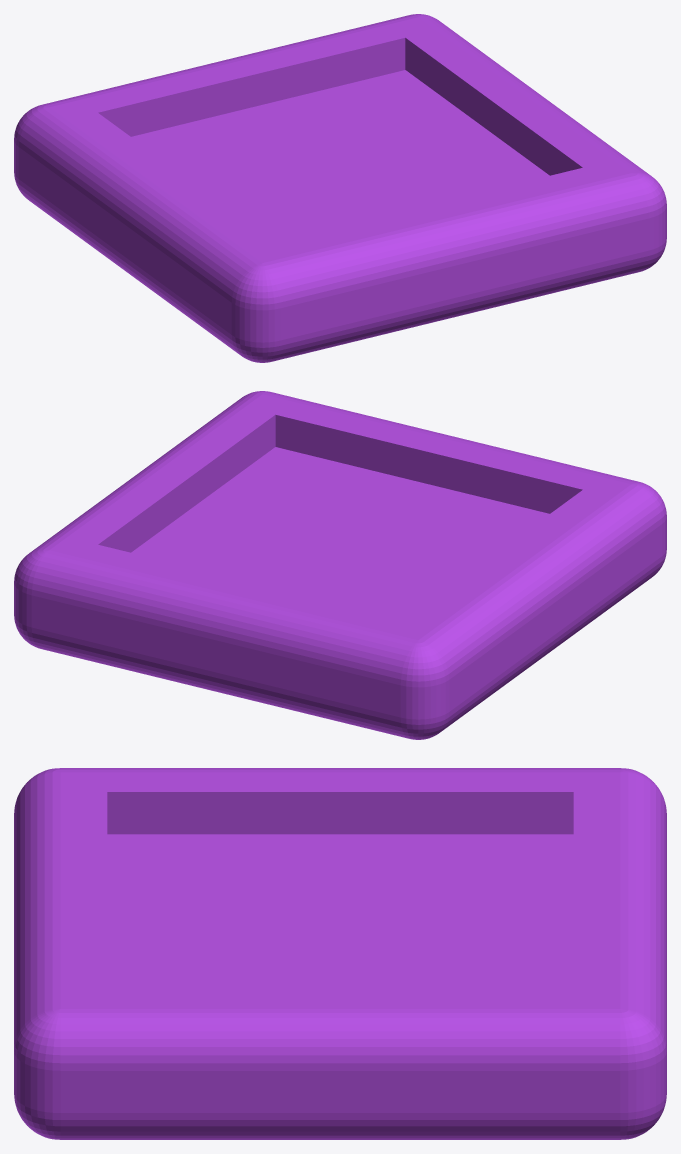
File: container_m.dae
3 renders of one model, top to bottom at view 1: azimuth 30°, elevation 25°; view 2: azimuth 150°, elevation 25°; view 3: azimuth 270°, elevation 25°, orthographic. The views are drawn at different scales.
Parts seen in each view (by area): view 1: 产品2 (2); view 2: 产品2 (2); view 3: 产品2 (2).
Part boxes in pixels (<box>): 产品2 (2): <box>14,14,666,362</box>; 产品2 (2): <box>14,391,666,739</box>; 产品2 (2): <box>14,768,666,1139</box>.
Size of the model in its own units: 0.07 by 0.07 by 0.015.
